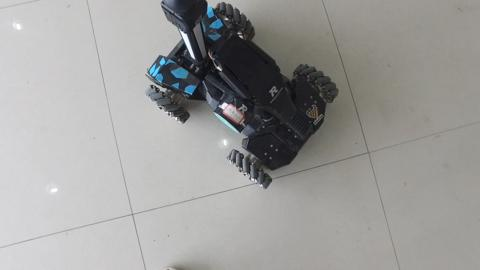chariot: (132, 2, 337, 182)
